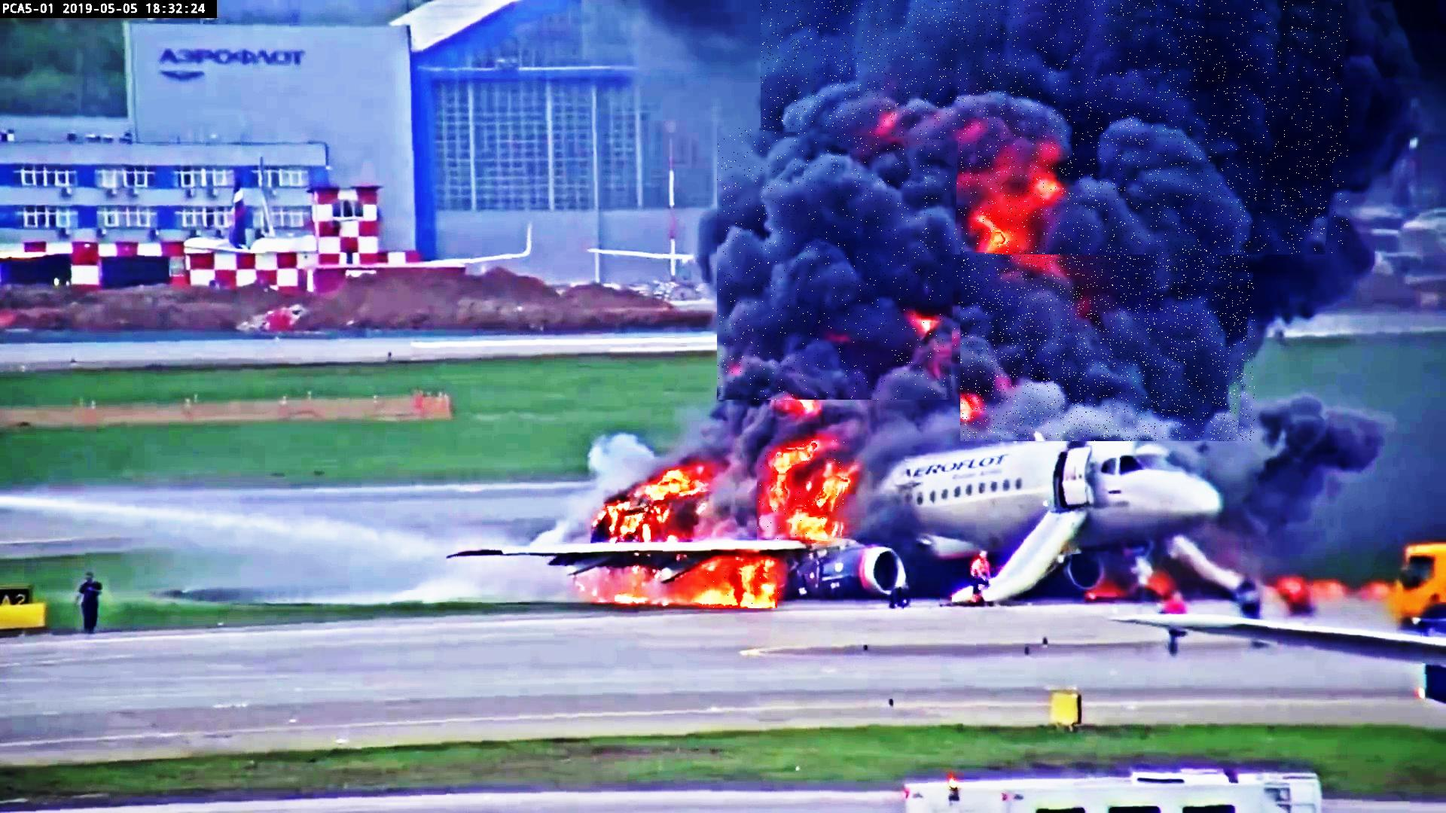fire: (757, 439, 847, 541), (703, 567, 779, 608)
smoke: (761, 0, 1348, 254), (718, 128, 960, 400), (961, 251, 1255, 441)
